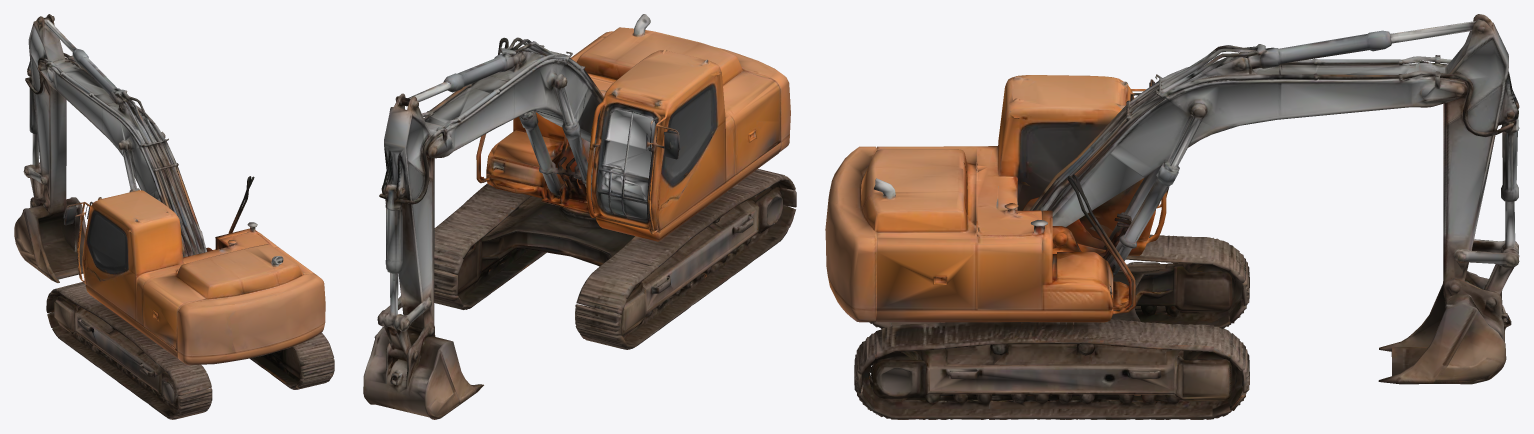
Rendered from load2-excavator.glb.
The picture shows the model from 3 angles, left to right: view 1: azimuth 30°, elevation 25°; view 2: azimuth 150°, elevation 25°; view 3: azimuth 270°, elevation 25°; orthographic projection. The views are drawn at different scales.
Visible parts, largest first — view 1: body; view 2: body; view 3: body.
Part boxes in pixels (x1,y1,x2,y2): body: (14,14,334,419); body: (363,14,796,419); body: (825,14,1519,419).
Size of the model in its own units: 3.13 by 4.19 by 7.53.
Materials: 1 (1 with a texture image).
